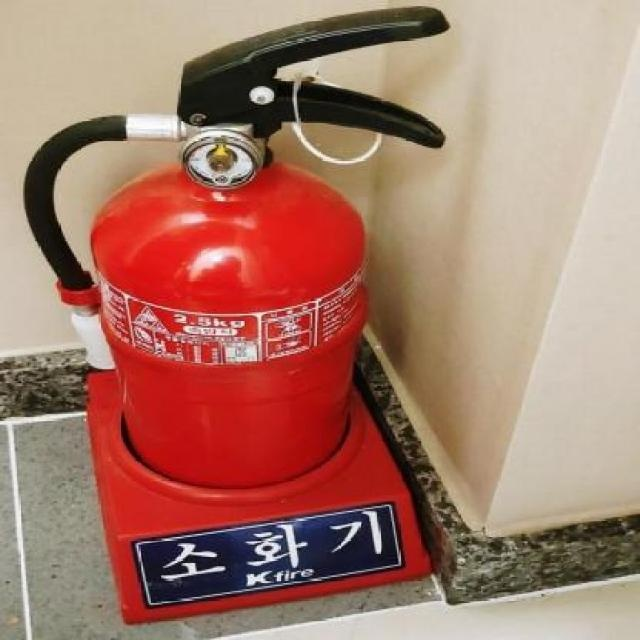fire extinguisher: (22, 6, 450, 489)
